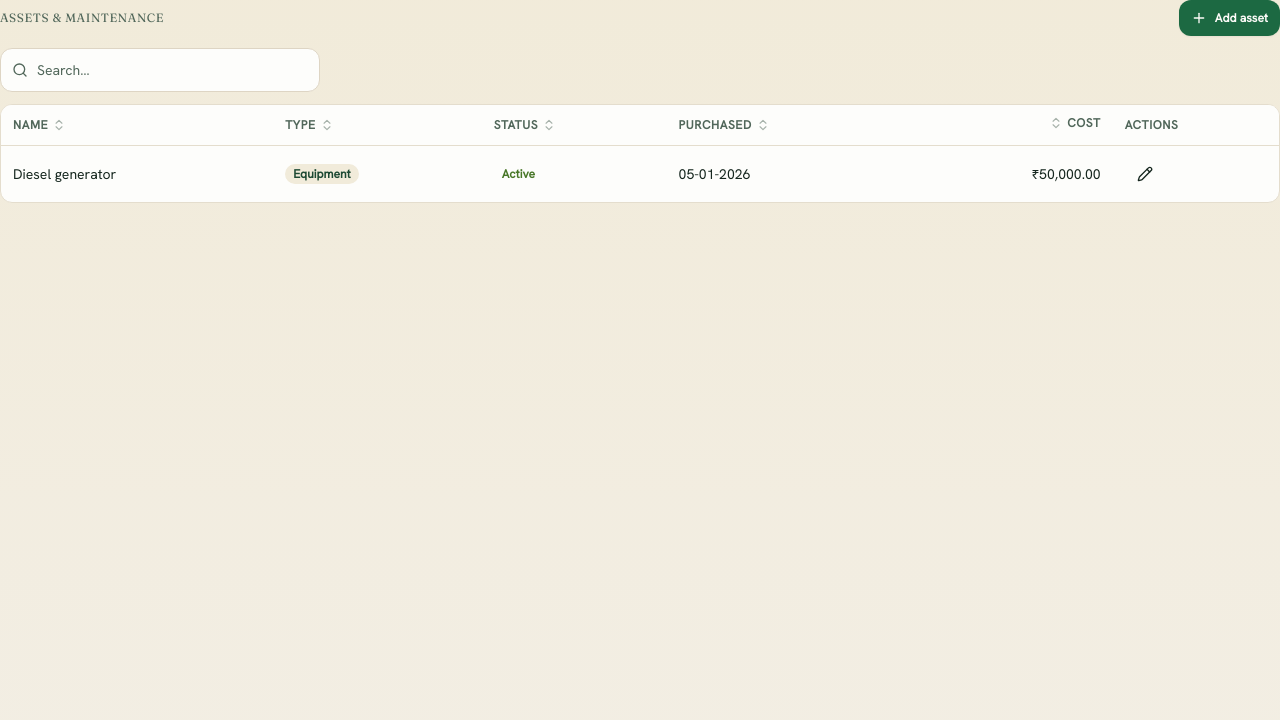
Test case: AssetsPanel › creates an asset from the dialog (purchase cost sent as integer paise)
This screenshot has width=1280, height=720.
expect the text "Diesel generator" is shown: met, box [13,164,116,182]
Click the button "Add asset" at (1229, 18), box [1179,0,1279,36]
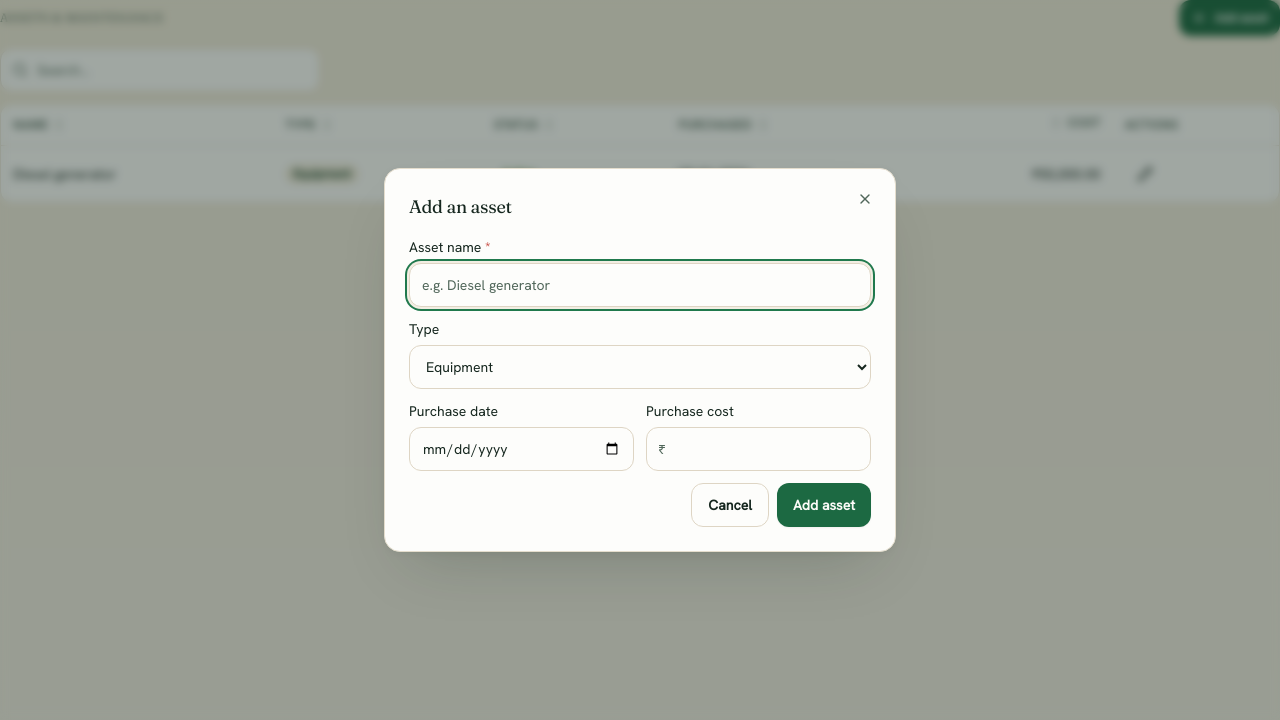
Type "Pump" into the field labelled "Asset name *" at (640, 285), box [409,263,871,307]
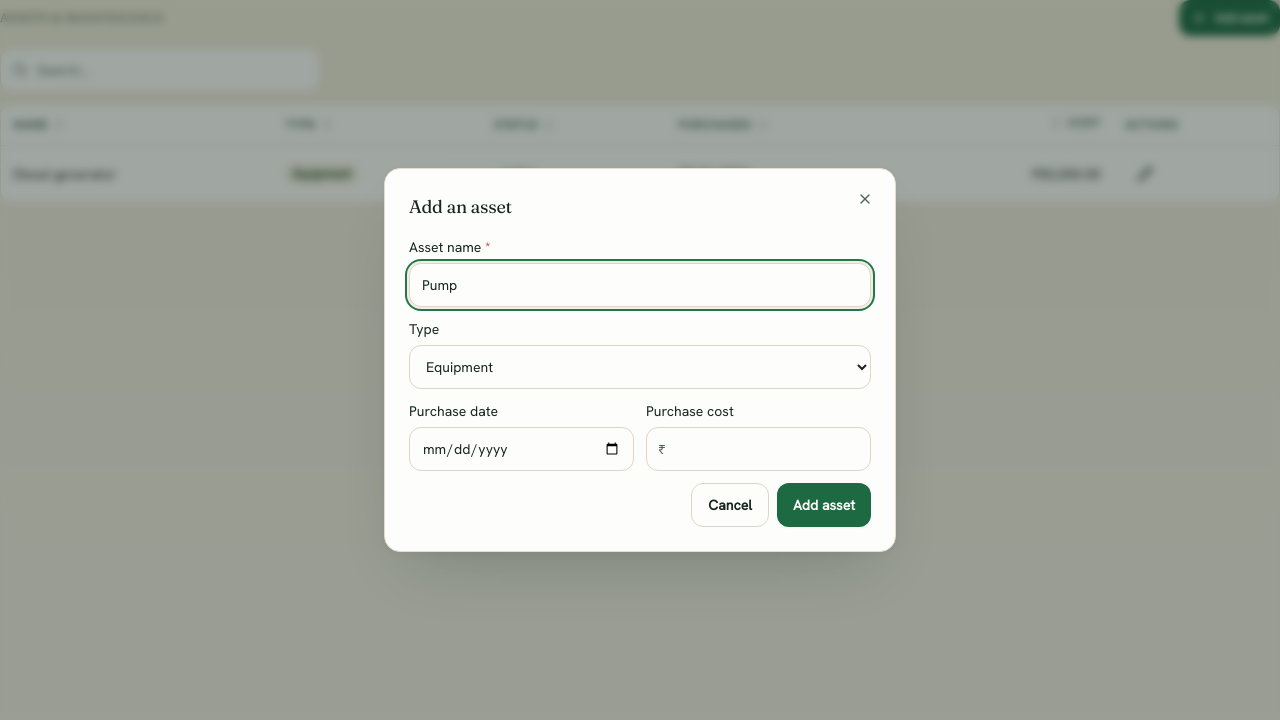
Type "1250.50" into the field labelled "Purchase cost" at (758, 449), box [646,427,871,471]
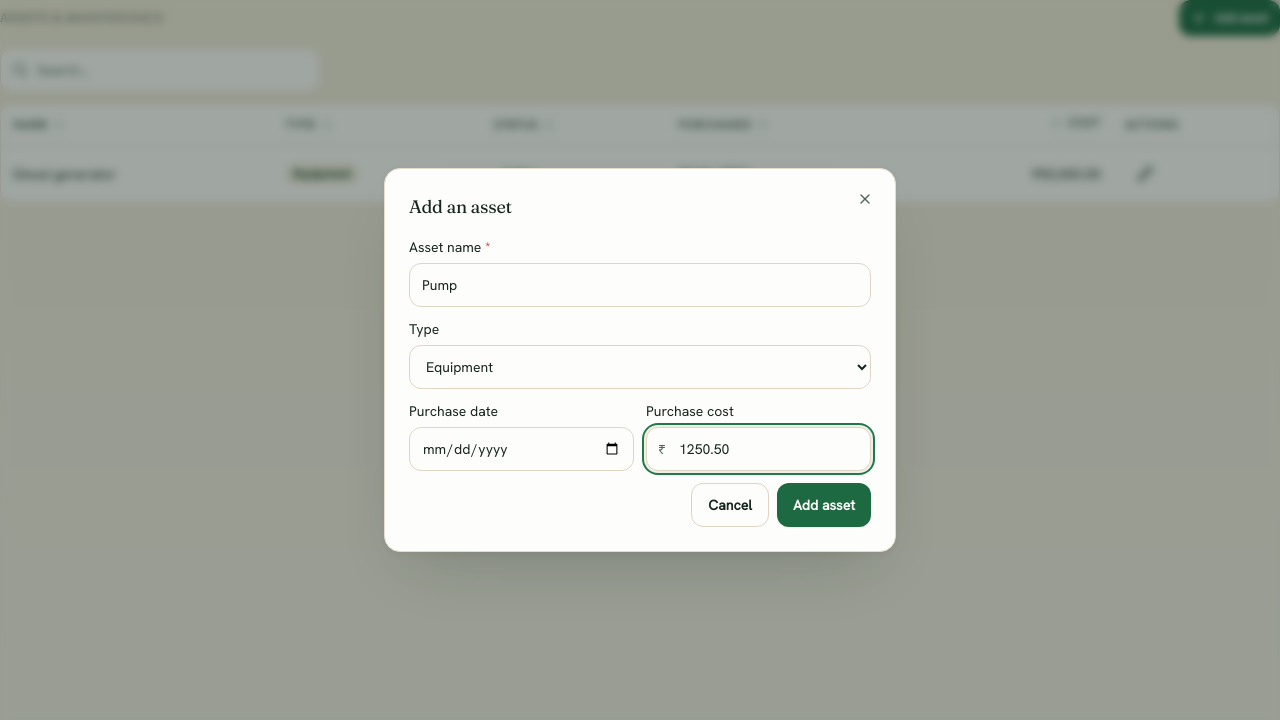
Click the button "Add asset" at (824, 505), box [777,483,871,527]
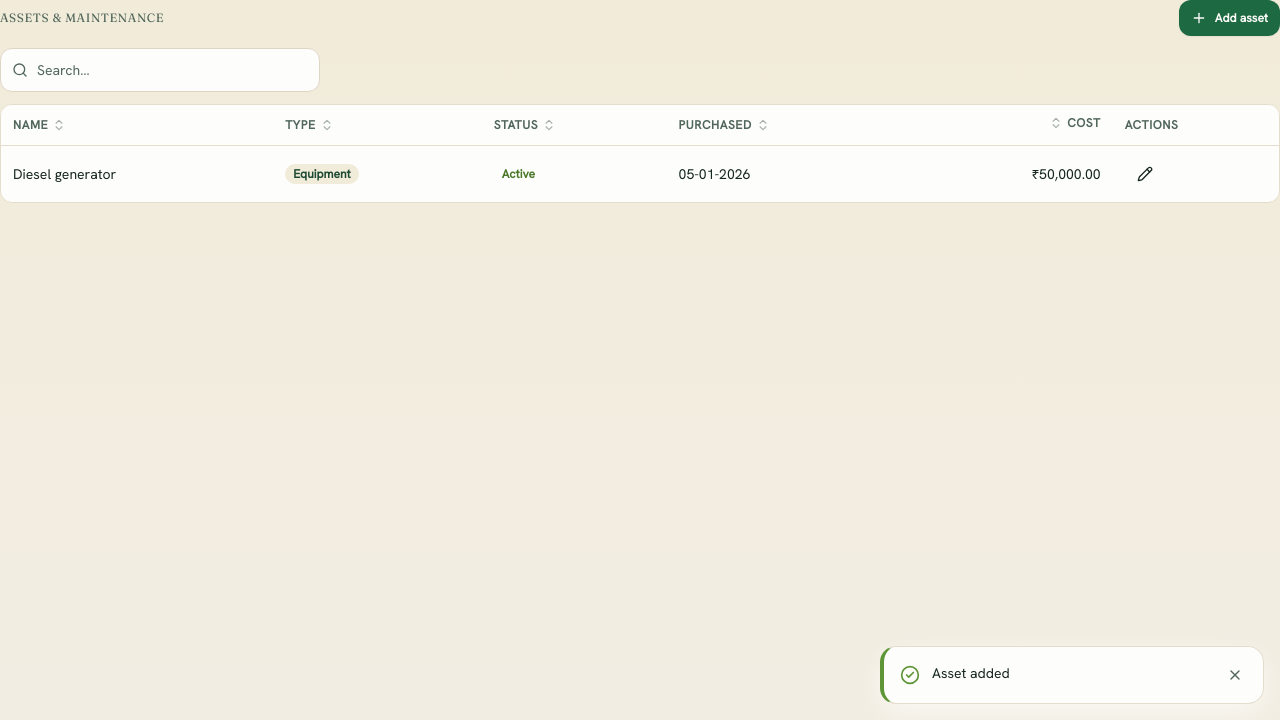
expect the text "Asset added" is shown: met, box [932,664,1010,682]
